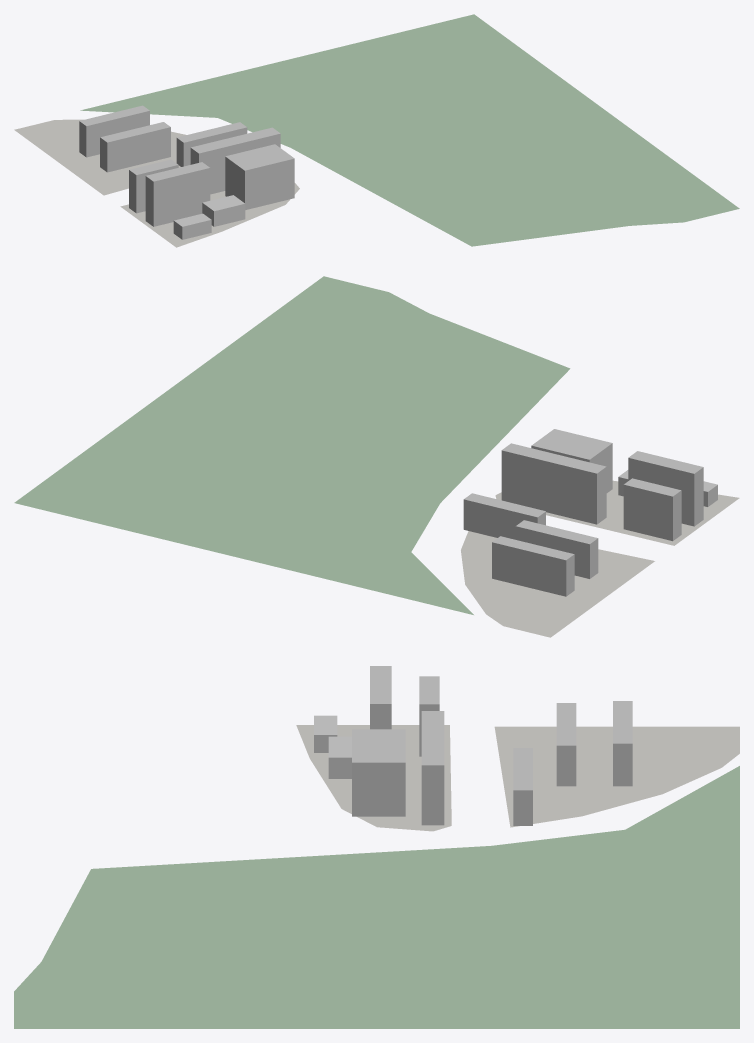
Rendered from 130_84_mid.glb.
The picture shows the model from 3 angles, top to bottom: view 1: azimuth 30°, elevation 25°; view 2: azimuth 150°, elevation 25°; view 3: azimuth 270°, elevation 25°; orthographic projection. The views are drawn at different scales.
Bounding box in the file's own units: 500 × 48.05 × 500.
